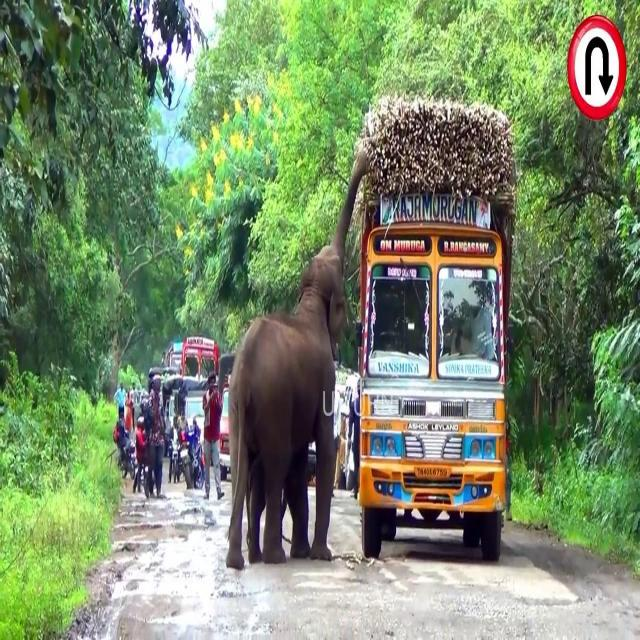Elephant: (225, 146, 369, 570)
